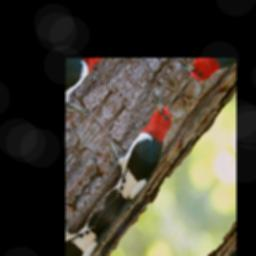Woodpecker: (75, 83, 189, 222)
